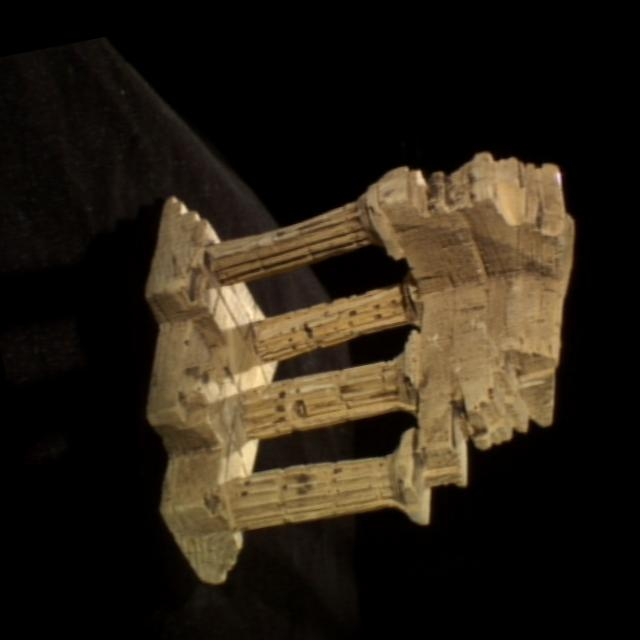Instance-Segmentation: (146, 153, 573, 583)
